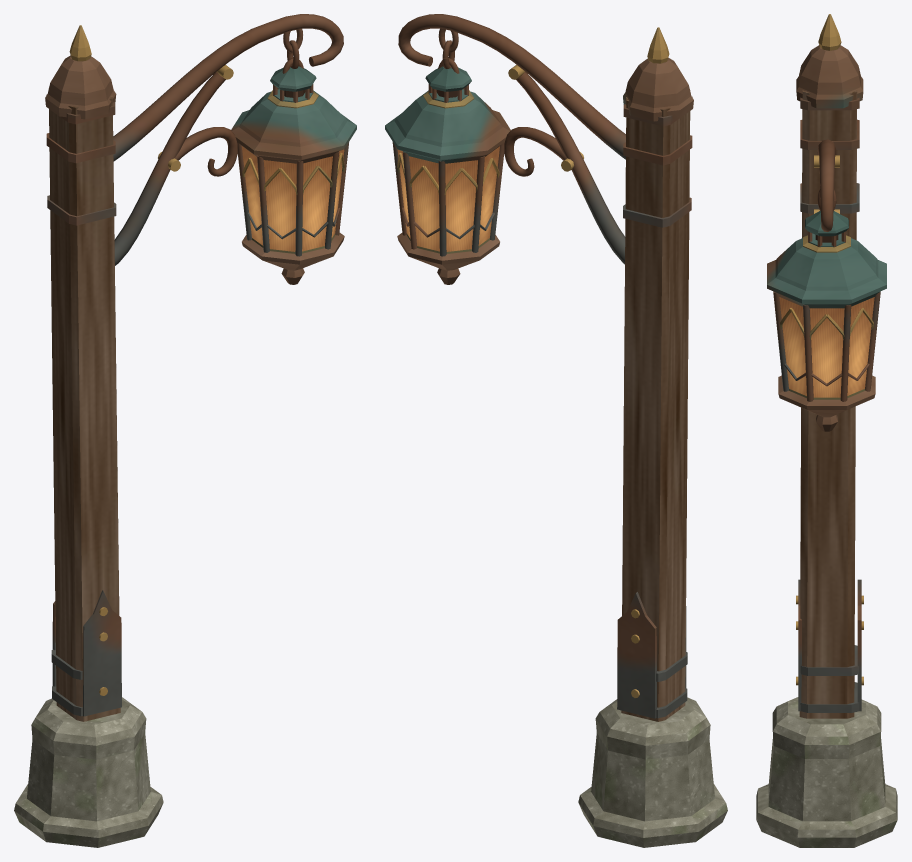
File: tide-lantern.glb
3 renders of one model, left to right at view 1: azimuth 30°, elevation 25°; view 2: azimuth 150°, elevation 25°; view 3: azimuth 270°, elevation 25°, orthographic.
Parts seen in each view (by area): view 1: tide-lantern; view 2: tide-lantern; view 3: tide-lantern.
Boxes of the visible parts, box(x1,y1,x2,y2) form: tide-lantern: box(14, 14, 356, 847); tide-lantern: box(385, 14, 727, 847); tide-lantern: box(756, 14, 897, 847).
Size of the model in its own units: 1.27 by 3.05 by 0.486.
2 materials, 2 textured.
